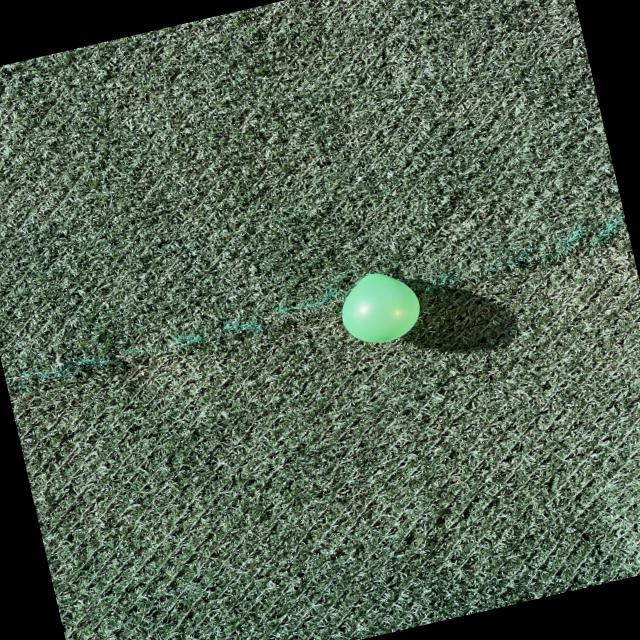balloon: (341, 273, 419, 342)
